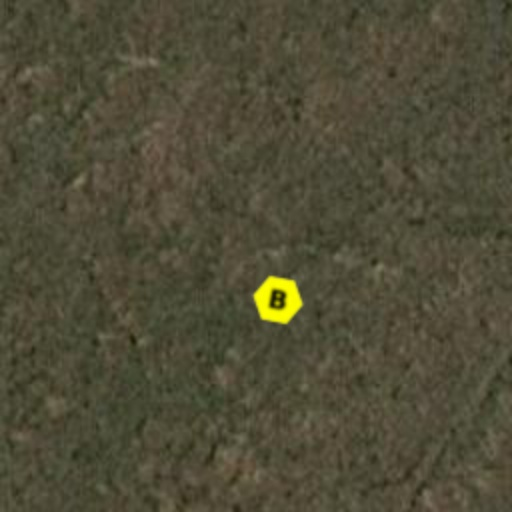hexagon: (248, 270, 308, 330)
